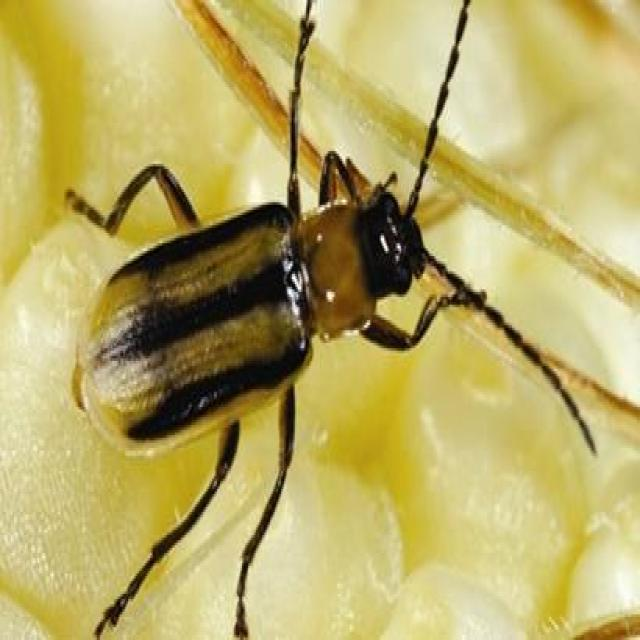trips: (54, 6, 576, 544)
